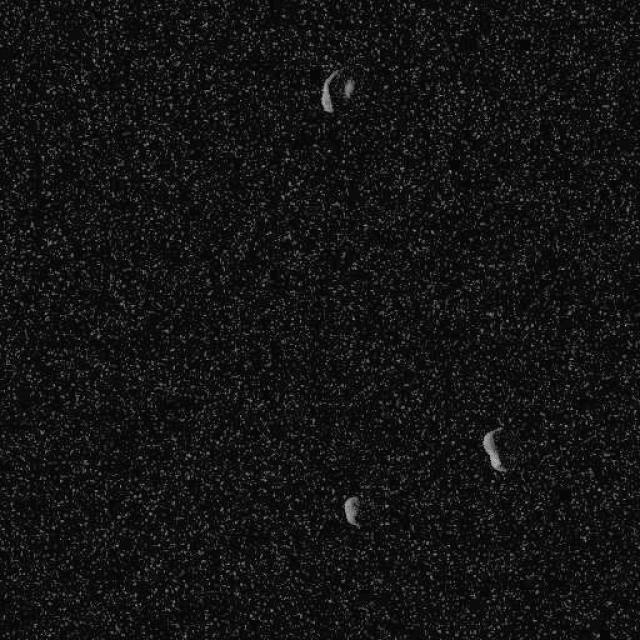D2: (319, 66, 355, 114), (482, 425, 506, 473), (342, 495, 360, 527)
